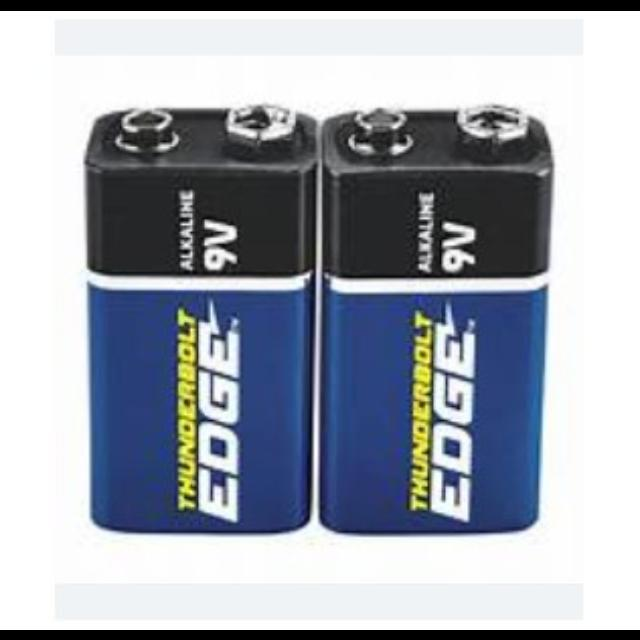Battery: (83, 103, 320, 537)
